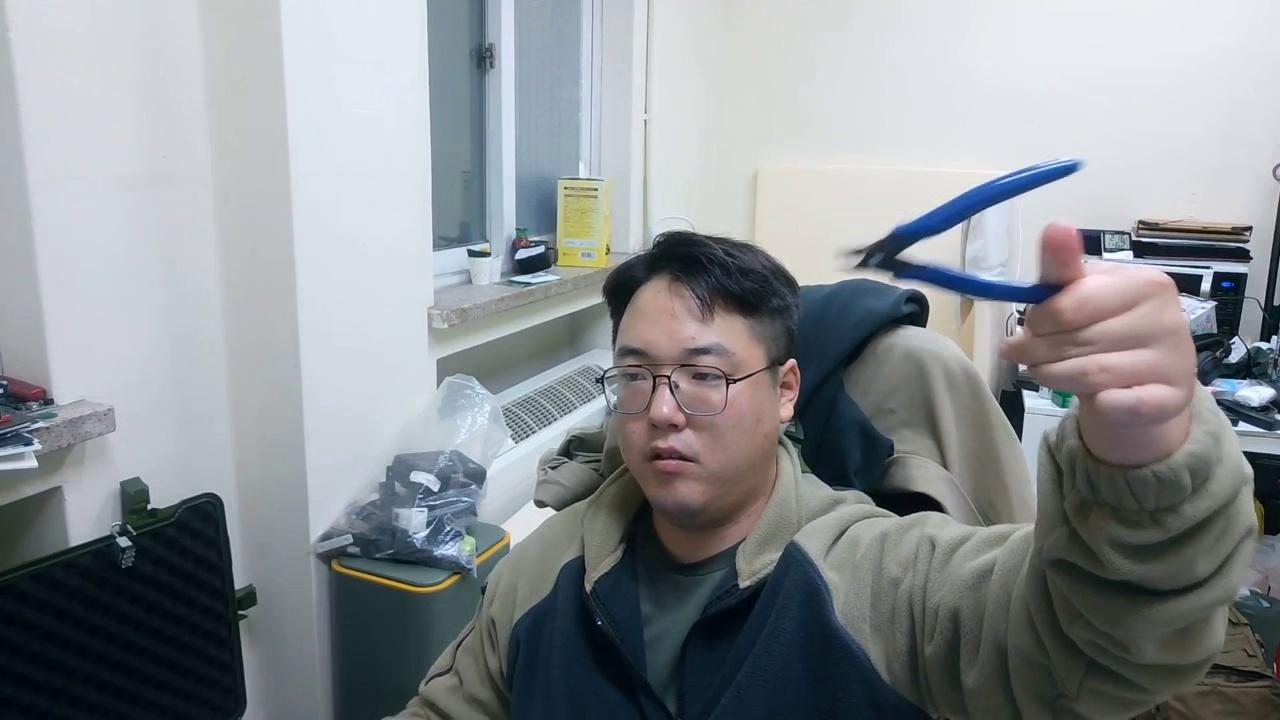blue_pliers: (852, 155, 1087, 306)
